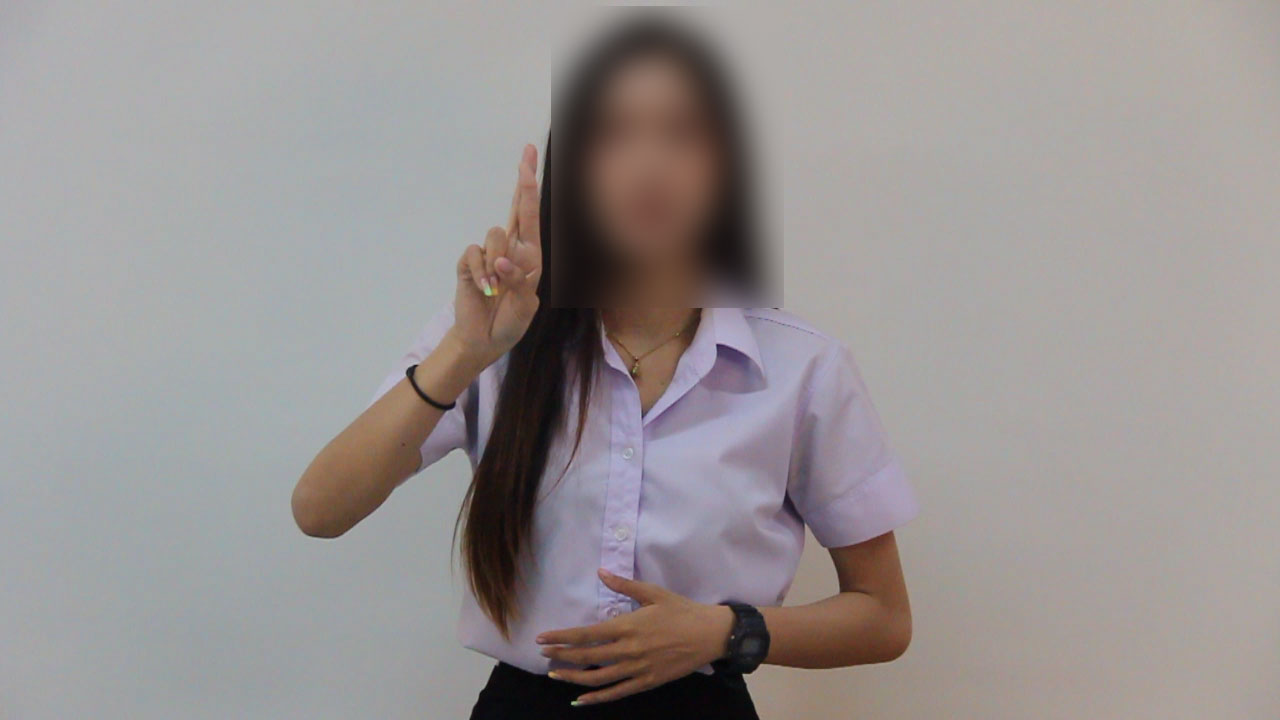rao: (402, 138, 550, 367)
